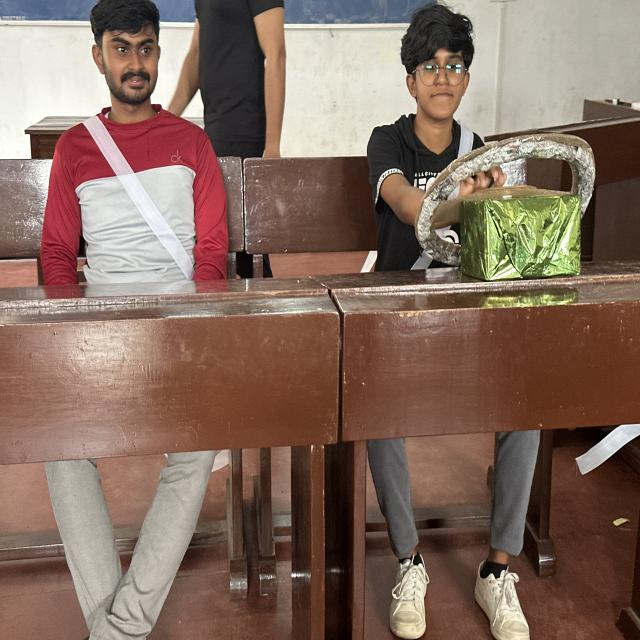seatbelt: (46, 105, 231, 333), (377, 111, 507, 281)
